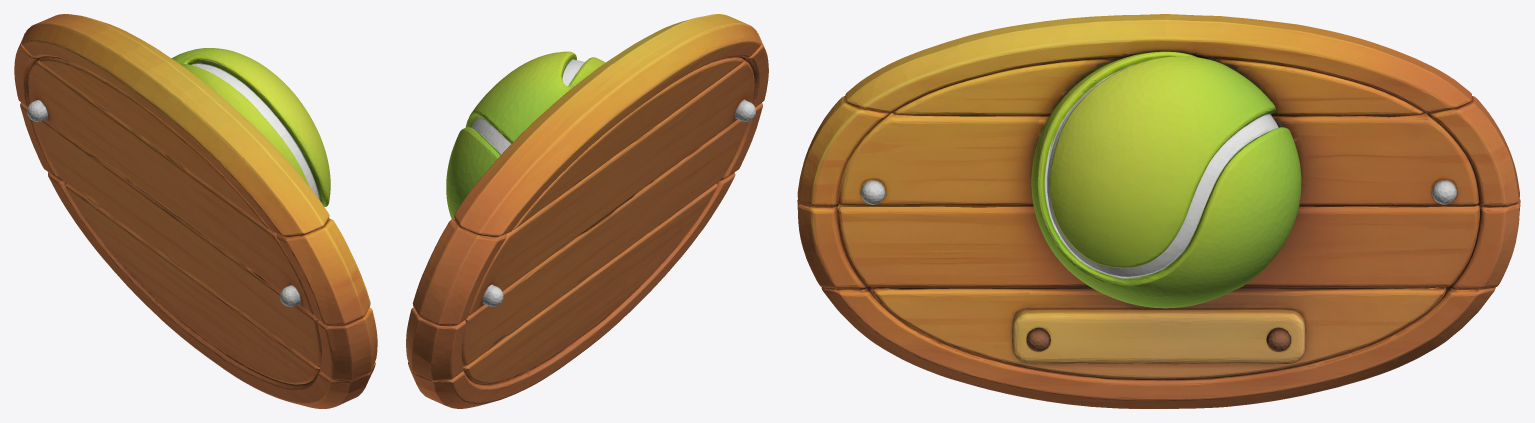
Rendered from sign_11.glb.
The picture shows the model from 3 angles, left to right: view 1: azimuth 30°, elevation 25°; view 2: azimuth 150°, elevation 25°; view 3: azimuth 270°, elevation 25°; orthographic projection. The views are drawn at different scales.
Visible parts, largest first — view 1: tripo_node_42ae25a3-6b01-4e09-94c6-3c878d921041; view 2: tripo_node_42ae25a3-6b01-4e09-94c6-3c878d921041; view 3: tripo_node_42ae25a3-6b01-4e09-94c6-3c878d921041.
Part boxes in pixels (bbox=[...]): tripo_node_42ae25a3-6b01-4e09-94c6-3c878d921041: bbox=[14, 14, 377, 408]; tripo_node_42ae25a3-6b01-4e09-94c6-3c878d921041: bbox=[406, 14, 768, 408]; tripo_node_42ae25a3-6b01-4e09-94c6-3c878d921041: bbox=[797, 14, 1520, 408].
Bounding box in the file's own units: 0.3177 × 0.5375 × 1.
Materials: 1 (1 with a texture image).
